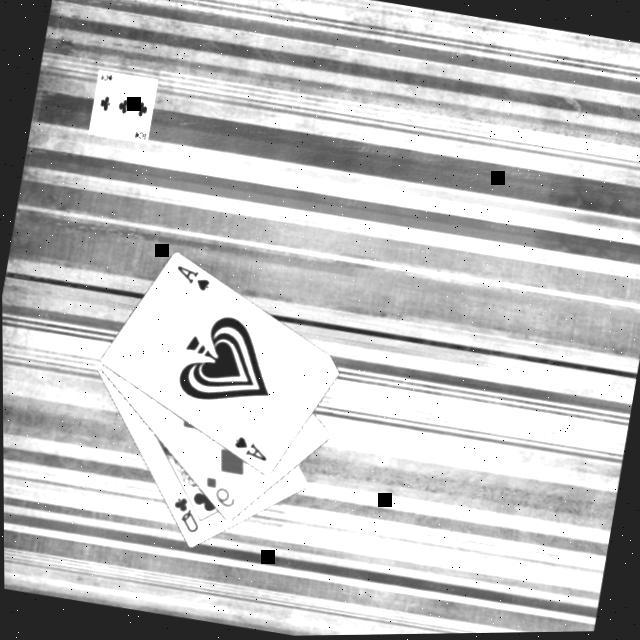6D: (197, 470, 240, 511)
AS: (168, 259, 214, 295), (227, 429, 271, 465)
QC: (164, 491, 204, 536)
